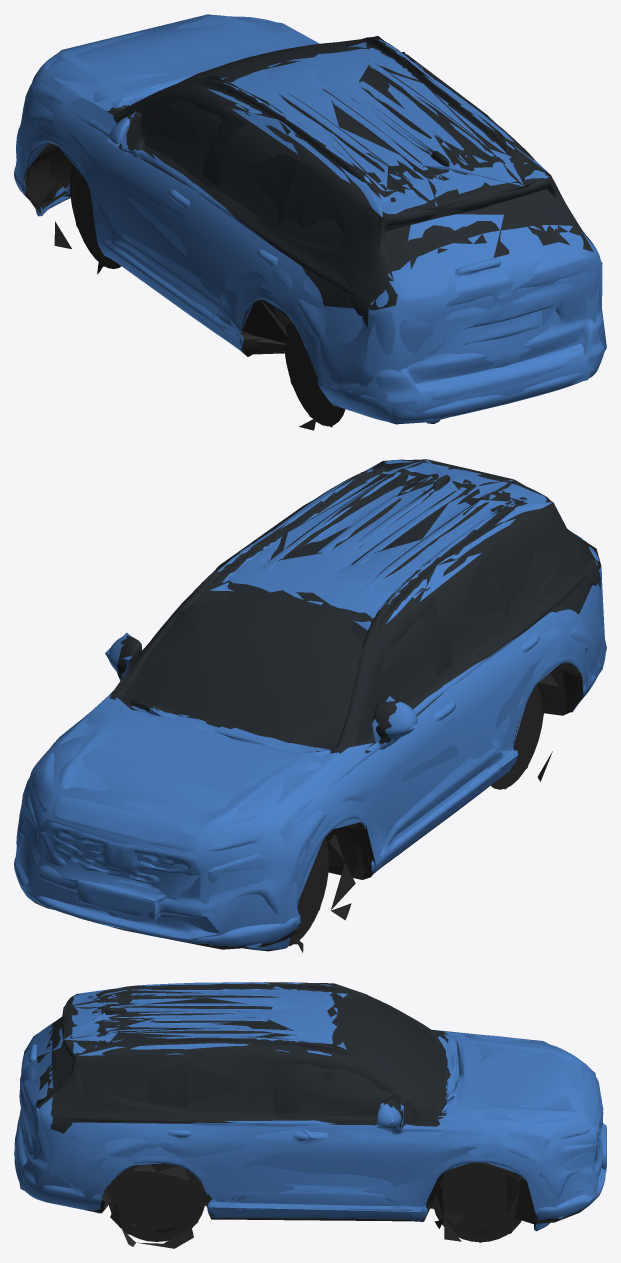
The model's file is honda-cr-v.glb.
3 renders of one model, top to bottom at view 1: azimuth 30°, elevation 25°; view 2: azimuth 150°, elevation 25°; view 3: azimuth 270°, elevation 25°, orthographic. The views are drawn at different scales.
Parts seen in each view (by area): view 1: body, far; view 2: body, far; view 3: body, far.
Part boxes in pixels (box(x1,y1,x2,y2)): body: box(14, 15, 604, 430); far: box(15, 14, 606, 427); body: box(14, 459, 605, 951); far: box(15, 459, 606, 952); body: box(14, 982, 606, 1248); far: box(14, 982, 606, 1242).
Size of the model in its own units: 2.13 by 1.77 by 4.74.
